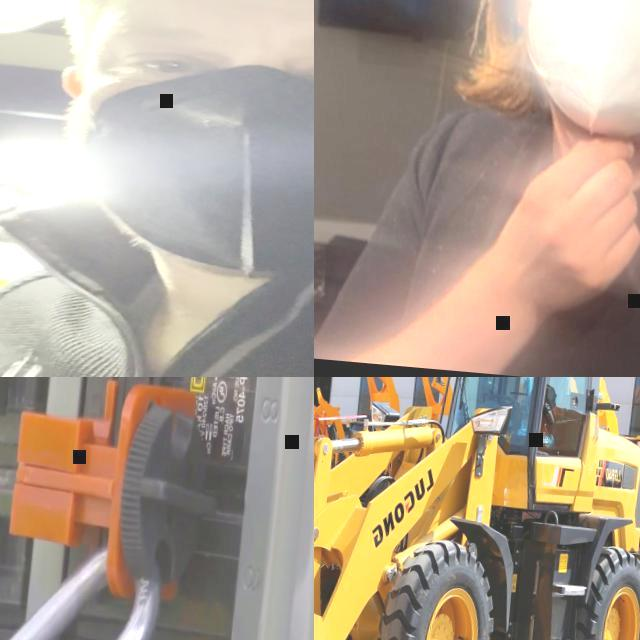machinery: (314, 377, 640, 640), (314, 383, 353, 528), (314, 385, 362, 467)
mask: (62, 67, 314, 293), (518, 0, 640, 137)
no_vest: (404, 105, 640, 377), (0, 205, 314, 377)
person: (314, 0, 640, 377), (0, 0, 314, 377)
